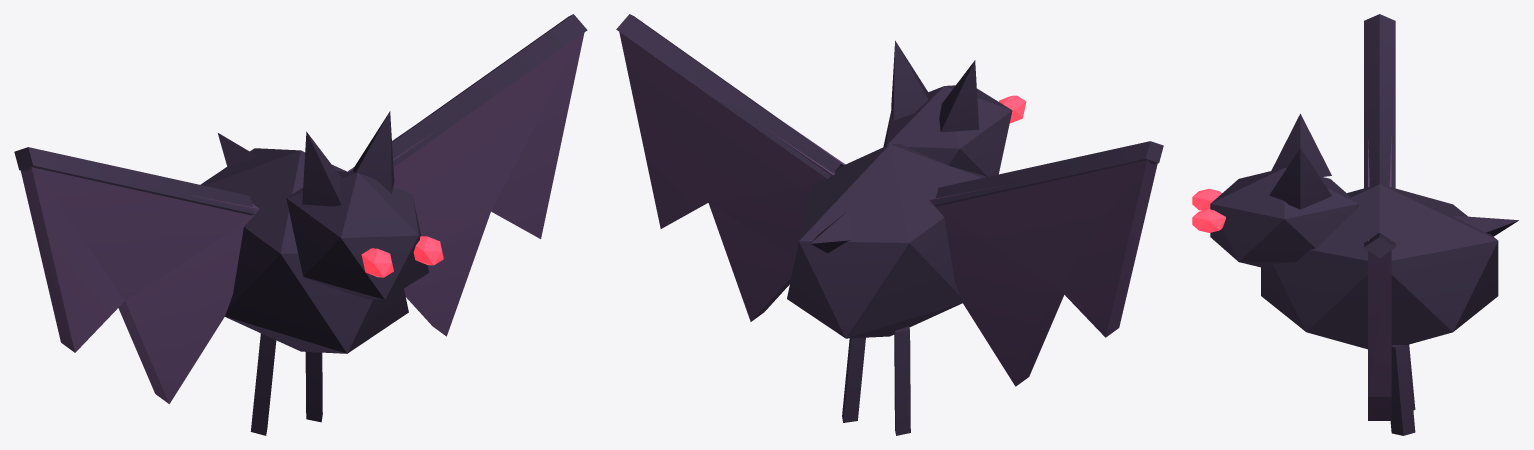
File: enemy_bat.glb
3 renders of one model, left to right at view 1: azimuth 30°, elevation 25°; view 2: azimuth 150°, elevation 25°; view 3: azimuth 270°, elevation 25°, orthographic. The views are drawn at different scales.
Visible parts, largest first — view 1: enemy_bat; view 2: enemy_bat; view 3: enemy_bat.
Part boxes in pixels (x1,y1,x2,y2): enemy_bat: [14, 14, 587, 435]; enemy_bat: [616, 14, 1163, 435]; enemy_bat: [1192, 14, 1518, 435].
Size of the model in its own units: 1 by 0.6 by 0.6.
